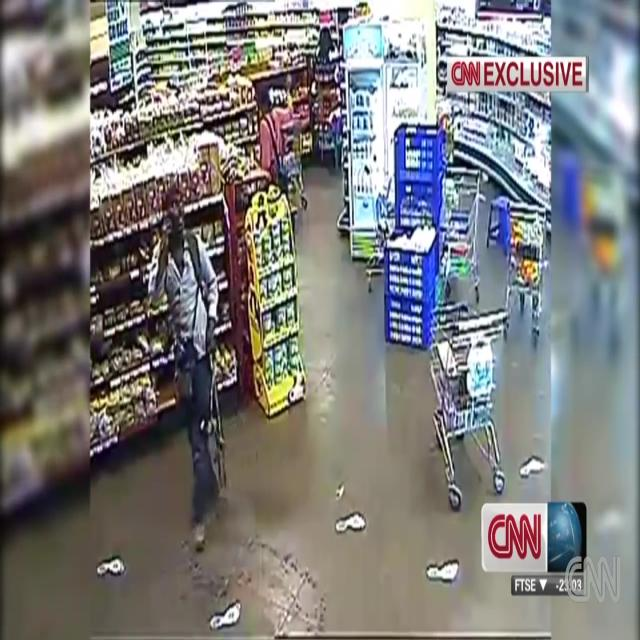Weapon: (203, 326, 237, 495)
